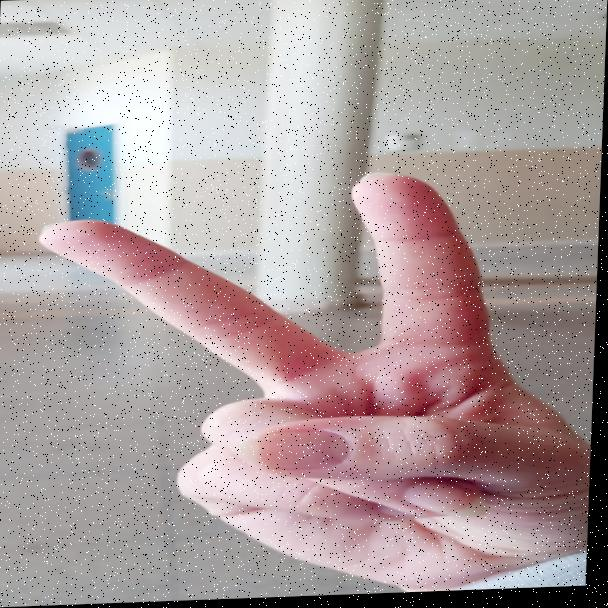two: (26, 169, 579, 574)
